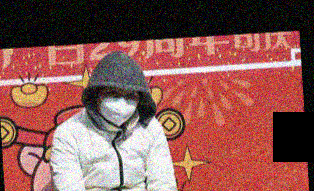with_mask: (93, 86, 139, 128)
